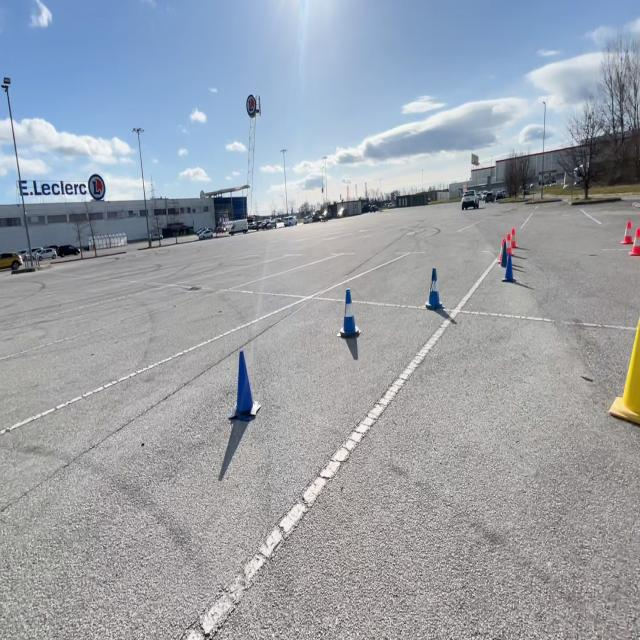blue_cone: (228, 347, 260, 422), (337, 287, 360, 338), (424, 266, 445, 310), (500, 237, 516, 282), (497, 236, 508, 266)
orange_cone: (620, 218, 633, 244), (498, 236, 507, 265), (632, 226, 640, 256), (508, 232, 516, 260), (508, 226, 517, 249)
yellow_cone: (606, 263, 640, 427)
